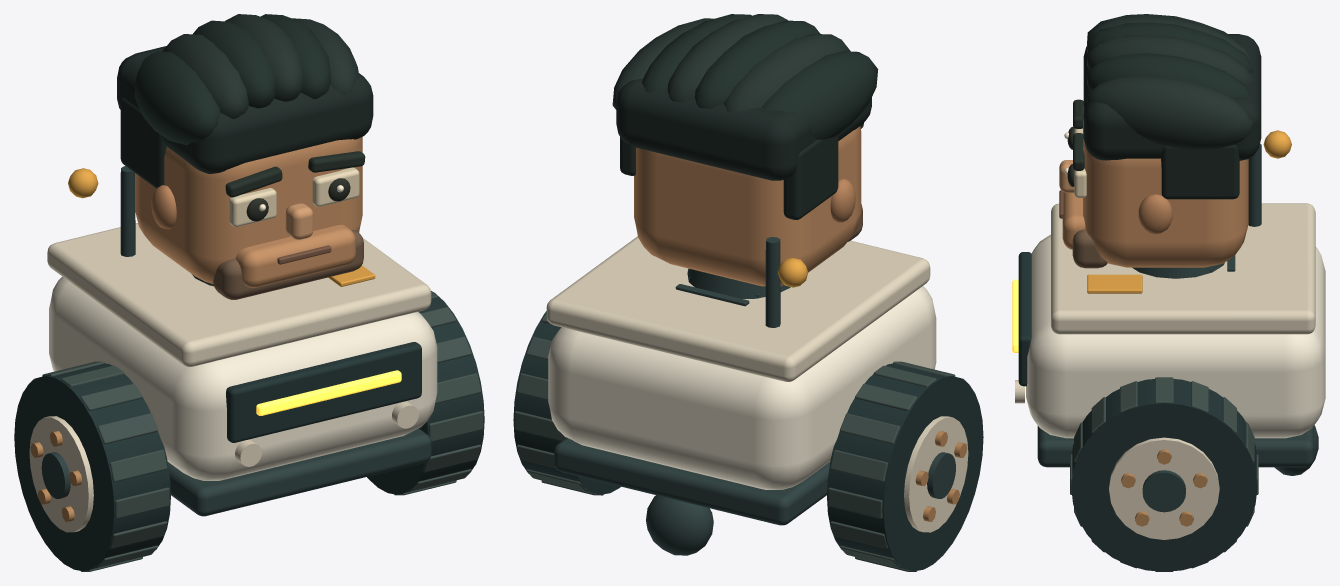
Rendered from nikhil-bot.glb.
3 renders of one model, left to right at view 1: azimuth 30°, elevation 25°; view 2: azimuth 150°, elevation 25°; view 3: azimuth 270°, elevation 25°, orthographic. The views are drawn at different scales.
Parts seen in each view (by area): view 1: Chassis and portrait head, Left wheel, Right wheel, Status light; view 2: Chassis and portrait head, Left wheel, Right wheel, Nikhil guide bot; view 3: Chassis and portrait head, Right wheel, Status light.
Boxes of the visible parts, x1,y1,x2,y2 form: Chassis and portrait head: [47, 14, 437, 516]; Left wheel: [14, 361, 170, 571]; Right wheel: [367, 291, 484, 495]; Status light: [256, 370, 401, 415]; Chassis and portrait head: [546, 14, 936, 525]; Left wheel: [827, 361, 983, 571]; Right wheel: [513, 311, 620, 495]; Nikhil guide bot: [646, 495, 713, 555]; Chassis and portrait head: [1015, 14, 1325, 467]; Right wheel: [1070, 377, 1258, 571]; Status light: [1012, 279, 1018, 352].
Bounding box in the file's own units: 1.45 × 1.73 × 1.08.
